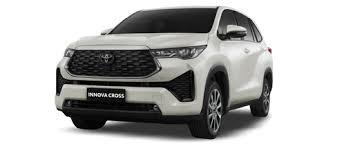toyota: (98, 50, 115, 69)
